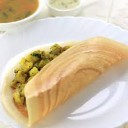dosa: (2, 32, 128, 123)
